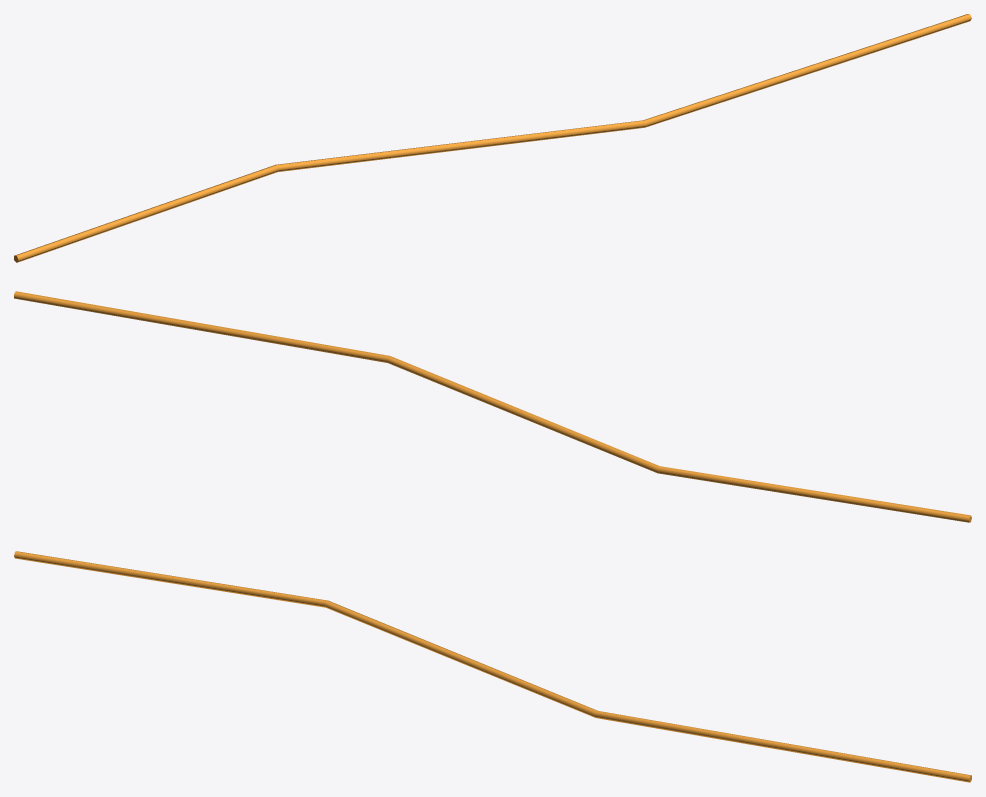
File: extension_cord_floor.glb
3 renders of one model, top to bottom at view 1: azimuth 30°, elevation 25°; view 2: azimuth 150°, elevation 25°; view 3: azimuth 330°, elevation 25°, orthographic.
Parts seen in each view (by area): view 1: extension_cord_floor; view 2: extension_cord_floor; view 3: extension_cord_floor.
Part boxes in pixels (left/top/right/bottom): extension_cord_floor: left=14, top=14, right=971, bottom=262; extension_cord_floor: left=14, top=291, right=971, bottom=522; extension_cord_floor: left=14, top=551, right=971, bottom=782.
Size of the model in its own units: 3 by 0.0209 by 0.2699.
